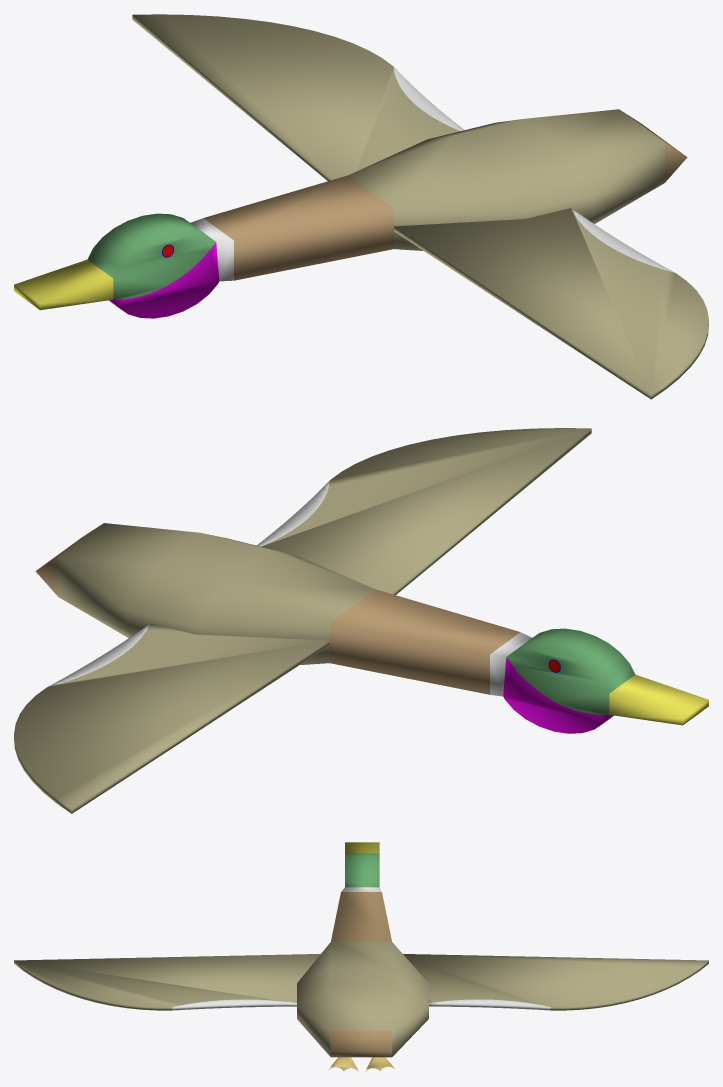
File: duck.fbx
3 renders of one model, top to bottom at view 1: azimuth 30°, elevation 25°; view 2: azimuth 150°, elevation 25°; view 3: azimuth 270°, elevation 25°, orthographic. The views are drawn at different scales.
Visible parts, largest first — view 1: Body, Wing_left, Wing_right; view 2: Body, Wing_right, Wing_left; view 3: Body, Wing_left, Wing_right.
Part boxes in pixels (left/top/right/bottom): Body: left=14, top=109, right=687, bottom=318; Wing_left: left=394, top=208, right=708, bottom=399; Wing_right: left=132, top=14, right=464, bottom=180; Body: left=35, top=523, right=708, bottom=733; Wing_right: left=14, top=623, right=329, bottom=813; Wing_left: left=256, top=428, right=591, bottom=594; Body: left=297, top=842, right=428, bottom=1057; Wing_left: left=14, top=954, right=320, bottom=1010; Wing_right: left=403, top=954, right=708, bottom=1010.
Size of the model in its own units: 1.1 by 0.2001 by 1.56.
